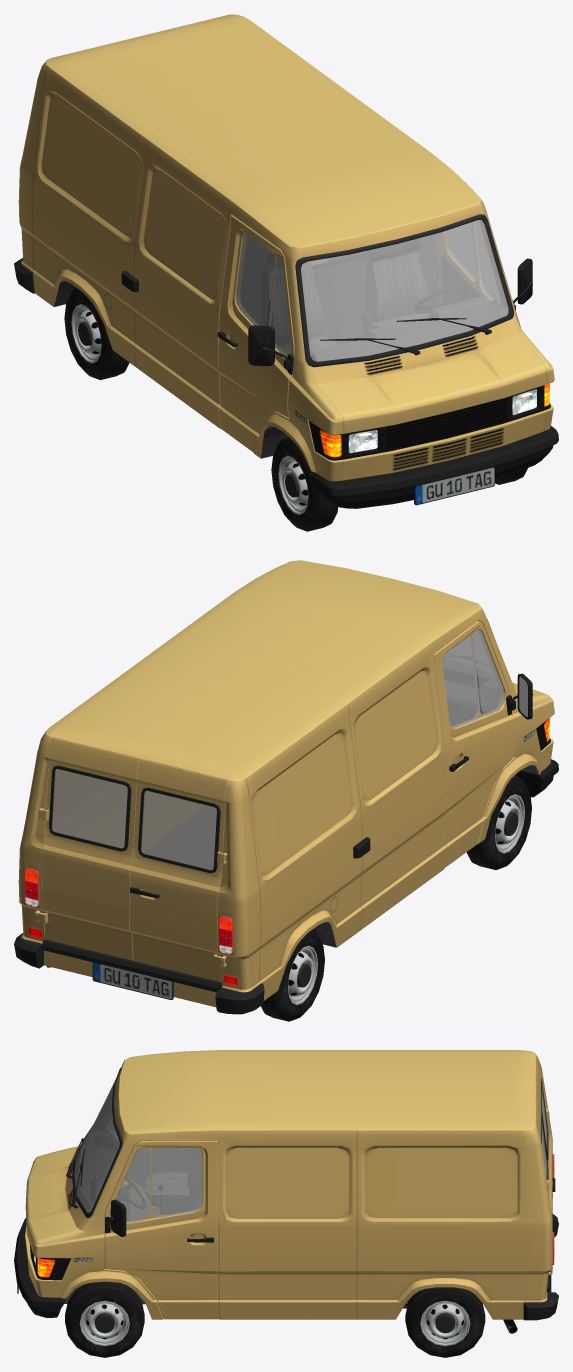
3 views of the same model, one above another, from view 1: azimuth 30°, elevation 25°; view 2: azimuth 150°, elevation 25°; view 3: azimuth 270°, elevation 25° (orthographic). The views are drawn at different scales.
Visible parts, largest first — view 1: polySurface160, glass_windshield_ply, polySurface149 (×2), bumper_front_ply, seat_front_ply (×2), door_glass_ply (×2), wheel_front_ply, wheel_front_ply2, license_plate_rear_ply1, mirror_ply; view 2: polySurface160, polySurface22, polySurface137, polySurface149, pCube80, pCube81, door_glass_ply, wheel_front_ply, wheel_front_ply2, license_plate_rear_ply, glass_windshield_ply, bumper_front_ply (+1 smaller); view 3: polySurface160, polySurface149 (×2), door_glass_ply, wheel_front_ply5, wheel_front_ply4, glass_windshield_ply, bumper_front_ply, pCube69, polySurface137, polySurface22, mirror_ply, seat_front_ply.
Part boxes in pixels (bbox=[...]): polySurface160: bbox=[14, 14, 554, 481]; glass_windshield_ply: bbox=[301, 220, 508, 361]; polySurface149 (×2): bbox=[218, 215, 493, 452]; bumper_front_ply: bbox=[310, 426, 558, 508]; seat_front_ply (×2): bbox=[262, 250, 428, 345]; door_glass_ply (×2): bbox=[235, 221, 499, 356]; wheel_front_ply: bbox=[271, 437, 338, 531]; wheel_front_ply2: bbox=[64, 288, 129, 379]; license_plate_rear_ply1: bbox=[414, 466, 494, 505]; mirror_ply: bbox=[248, 325, 274, 365]; polySurface160: bbox=[14, 560, 554, 1014]; polySurface22: bbox=[41, 737, 139, 960]; polySurface137: bbox=[129, 759, 227, 982]; polySurface149: bbox=[433, 621, 515, 867]; pCube80: bbox=[52, 769, 127, 848]; pCube81: bbox=[141, 791, 216, 870]; door_glass_ply: bbox=[442, 630, 504, 727]; wheel_front_ply: bbox=[466, 775, 531, 869]; wheel_front_ply2: bbox=[261, 929, 324, 1021]; license_plate_rear_ply: bbox=[92, 962, 173, 999]; glass_windshield_ply: bbox=[444, 632, 493, 674]; bumper_front_ply: bbox=[515, 759, 558, 797]; polySurface160: bbox=[25, 1050, 558, 1320]; polySurface149 (×2): bbox=[104, 1116, 218, 1319]; door_glass_ply: bbox=[110, 1148, 202, 1222]; wheel_front_ply5: bbox=[65, 1281, 144, 1357]; wheel_front_ply4: bbox=[405, 1287, 485, 1357]; glass_windshield_ply: bbox=[74, 1079, 119, 1212]; bumper_front_ply: bbox=[14, 1218, 66, 1317]; pCube69: bbox=[146, 1172, 189, 1206]; polySurface137: bbox=[535, 1056, 552, 1180]; polySurface22: bbox=[535, 1091, 552, 1215]; mirror_ply: bbox=[110, 1199, 126, 1236]; seat_front_ply: bbox=[188, 1148, 201, 1190].
Bounding box in the file's own units: 2.66 × 2.51 × 5.37.
Materials: 5 (4 with a texture image).
